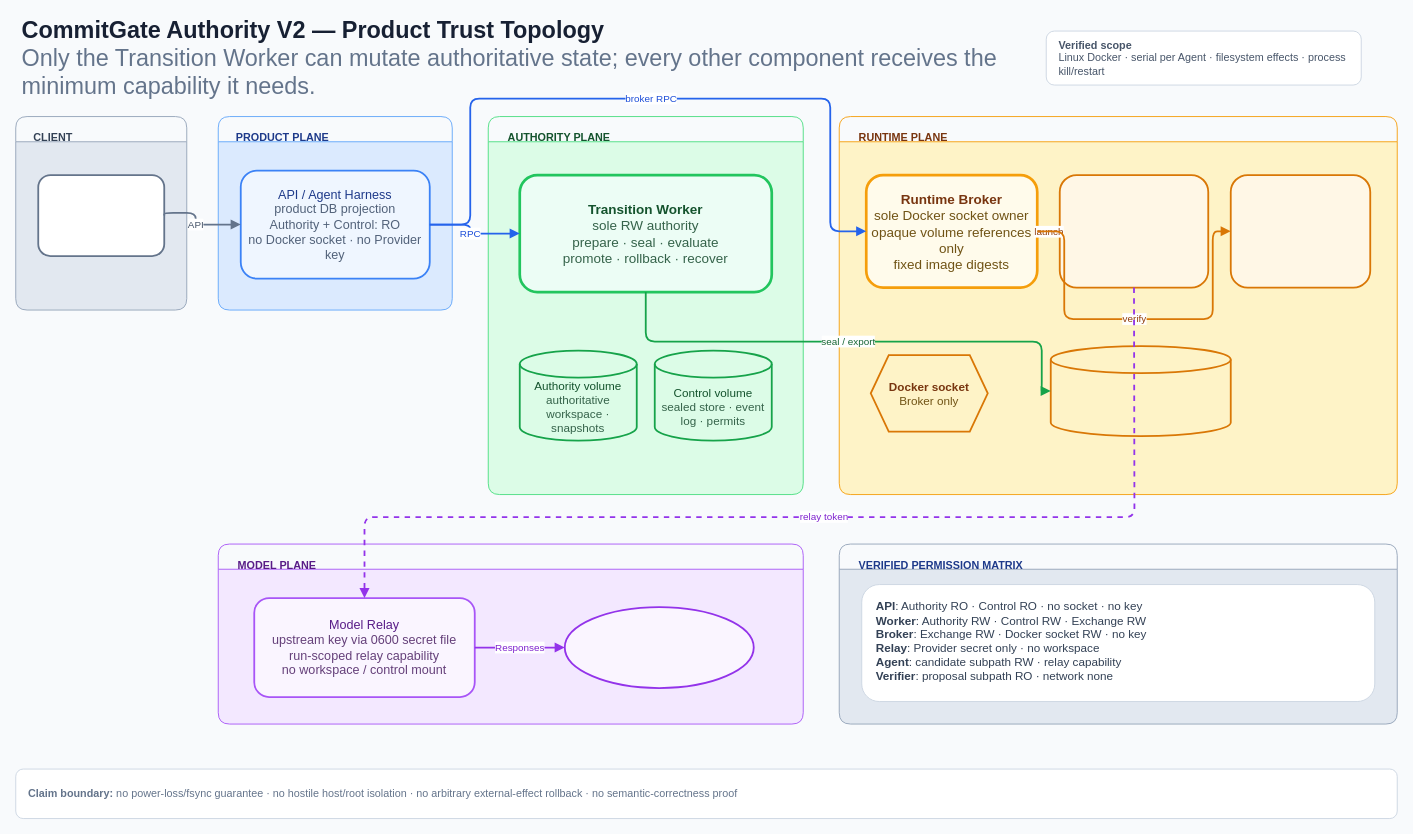
The diagram is 1413 pixels wide and 834 high, and some of its shapes have lost their labels. Each missing label, with the centre of its shape:
Agent Runtime candidate subpath: RW epoch home + scratch relay-only network: pixel 1133 231
Browser / UI HEAD · receipt · history: pixel 101 215
Exchange volume run-scoped candidate and verifier export: pixel 1140 390
Responses Provider Ark official adapter: pixel 658 647
Trusted Verifier proposal export: RO isolated scratch: RW network: none: pixel 1300 231
